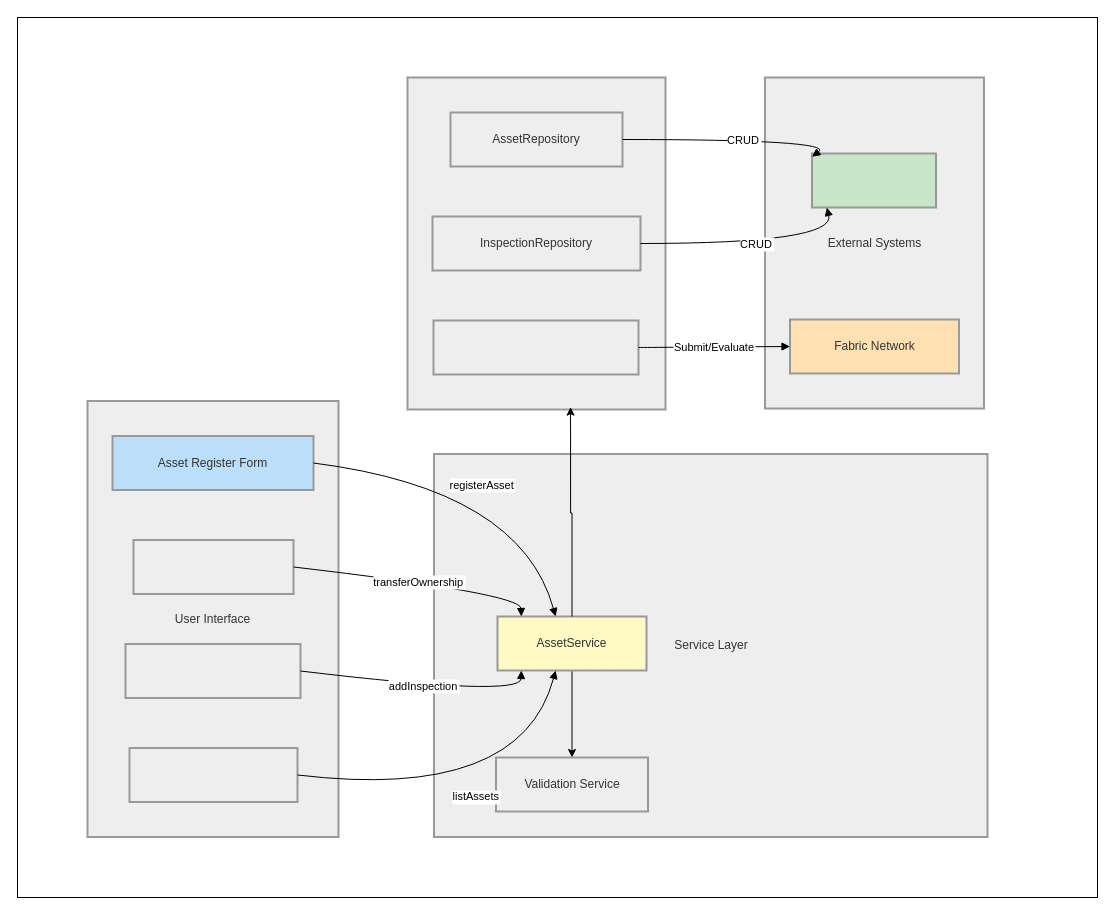
This 1115x915 diagram has some shape labels left out. Here are the shapes that lost their labels. From the top down, the centre of each, then its label:
At (x=873, y=180): "MongoDB".
At (x=535, y=347): "FabricLedgerService".
At (x=213, y=566): "Transfer Form".
At (x=212, y=670): "Inspection Form".
At (x=213, y=774): "Search & Filter".
